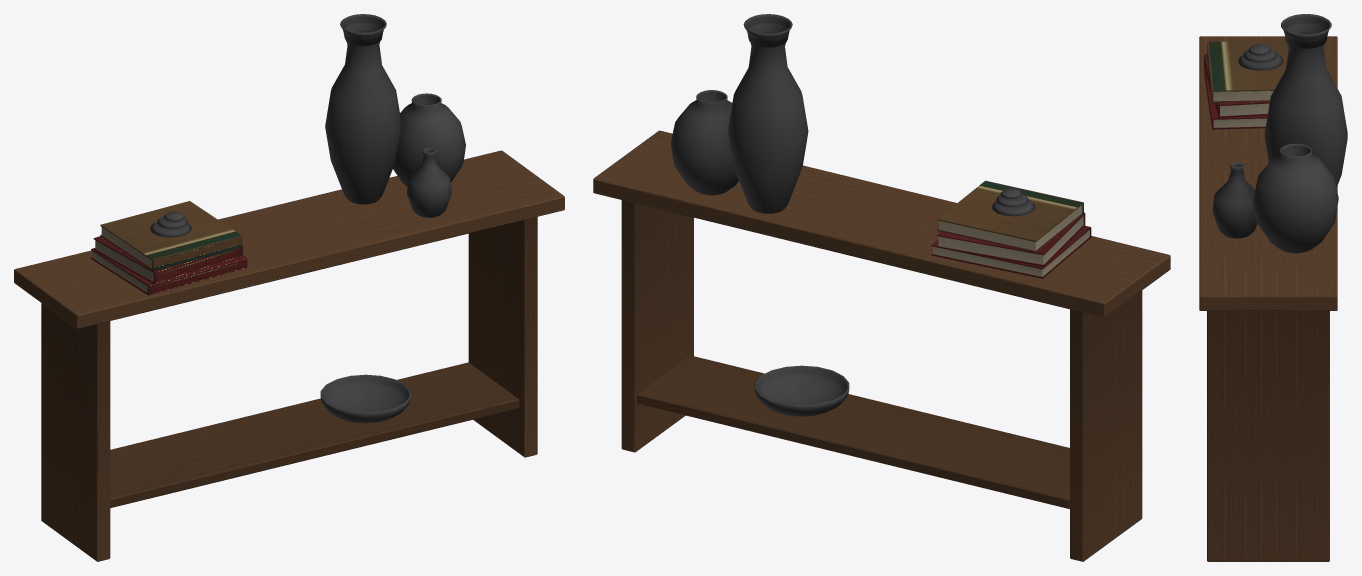
Rendered from decor_c_vignette_gallery.gltf.
3 views of the same model, side by side, from view 1: azimuth 30°, elevation 25°; view 2: azimuth 150°, elevation 25°; view 3: azimuth 270°, elevation 25° (orthographic). The views are drawn at different scales.
Parts seen in each view (by area): view 1: DecorC_VignetteGallery_Walnut, DecorC_VignetteGallery_Vase01_Charcoal_NoCollide, DecorC_VignetteGallery_Book03_Spines_NoCollide, DecorC_VignetteGallery_Vase02_Charcoal_NoCollide, DecorC_VignetteGallery_Bowl01_Charcoal_NoCollide, DecorC_VignetteGallery_Vase03_Charcoal_NoCollide, DecorC_VignetteGallery_Book02_Spines_NoCollide, DecorC_VignetteGallery_Book01_Spines_NoCollide, DecorC_VignetteGallery_Ornament01_Charcoal_NoCollide; view 2: DecorC_VignetteGallery_Walnut, DecorC_VignetteGallery_Vase01_Charcoal_NoCollide, DecorC_VignetteGallery_Book03_Spines_NoCollide, DecorC_VignetteGallery_Vase02_Charcoal_NoCollide, DecorC_VignetteGallery_Bowl01_Charcoal_NoCollide, DecorC_VignetteGallery_Book02_Spines_NoCollide, DecorC_VignetteGallery_Book01_Spines_NoCollide, DecorC_VignetteGallery_Ornament01_Charcoal_NoCollide; view 3: DecorC_VignetteGallery_Walnut, DecorC_VignetteGallery_Vase01_Charcoal_NoCollide, DecorC_VignetteGallery_Vase02_Charcoal_NoCollide, DecorC_VignetteGallery_Book03_Spines_NoCollide, DecorC_VignetteGallery_Vase03_Charcoal_NoCollide, DecorC_VignetteGallery_Book01_Spines_NoCollide, DecorC_VignetteGallery_Book02_Spines_NoCollide, DecorC_VignetteGallery_Ornament01_Charcoal_NoCollide.
Boxes of the visible parts, x1=… form: DecorC_VignetteGallery_Walnut: x1=14, y1=150, x2=564, y2=561; DecorC_VignetteGallery_Vase01_Charcoal_NoCollide: x1=325, y1=14, x2=401, y2=204; DecorC_VignetteGallery_Book03_Spines_NoCollide: x1=100, y1=201, x2=242, y2=270; DecorC_VignetteGallery_Vase02_Charcoal_NoCollide: x1=393, y1=93, x2=465, y2=186; DecorC_VignetteGallery_Bowl01_Charcoal_NoCollide: x1=320, y1=374, x2=410, y2=423; DecorC_VignetteGallery_Vase03_Charcoal_NoCollide: x1=406, y1=148, x2=451, y2=217; DecorC_VignetteGallery_Book02_Spines_NoCollide: x1=93, y1=235, x2=242, y2=283; DecorC_VignetteGallery_Book01_Spines_NoCollide: x1=91, y1=248, x2=247, y2=295; DecorC_VignetteGallery_Ornament01_Charcoal_NoCollide: x1=150, y1=211, x2=191, y2=237; DecorC_VignetteGallery_Walnut: x1=593, y1=130, x2=1170, y2=561; DecorC_VignetteGallery_Vase01_Charcoal_NoCollide: x1=728, y1=14, x2=808, y2=213; DecorC_VignetteGallery_Book03_Spines_NoCollide: x1=937, y1=180, x2=1083, y2=252; DecorC_VignetteGallery_Vase02_Charcoal_NoCollide: x1=671, y1=90, x2=738, y2=195; DecorC_VignetteGallery_Bowl01_Charcoal_NoCollide: x1=754, y1=365, x2=849, y2=416; DecorC_VignetteGallery_Book02_Spines_NoCollide: x1=937, y1=212, x2=1085, y2=266; DecorC_VignetteGallery_Book01_Spines_NoCollide: x1=931, y1=225, x2=1091, y2=278; DecorC_VignetteGallery_Ornament01_Charcoal_NoCollide: x1=992, y1=188, x2=1035, y2=216; DecorC_VignetteGallery_Walnut: x1=1199, y1=36, x2=1337, y2=561; DecorC_VignetteGallery_Vase01_Charcoal_NoCollide: x1=1264, y1=14, x2=1347, y2=187; DecorC_VignetteGallery_Vase02_Charcoal_NoCollide: x1=1253, y1=143, x2=1338, y2=253; DecorC_VignetteGallery_Book03_Spines_NoCollide: x1=1207, y1=40, x2=1288, y2=102; DecorC_VignetteGallery_Vase03_Charcoal_NoCollide: x1=1212, y1=162, x2=1257, y2=238; DecorC_VignetteGallery_Book01_Spines_NoCollide: x1=1204, y1=70, x2=1267, y2=129; DecorC_VignetteGallery_Book02_Spines_NoCollide: x1=1204, y1=54, x2=1269, y2=117; DecorC_VignetteGallery_Ornament01_Charcoal_NoCollide: x1=1238, y1=44, x2=1283, y2=70.
Bounding box in the file's own units: 1.6 × 1.35 × 0.386.
3 materials, 2 textured.
